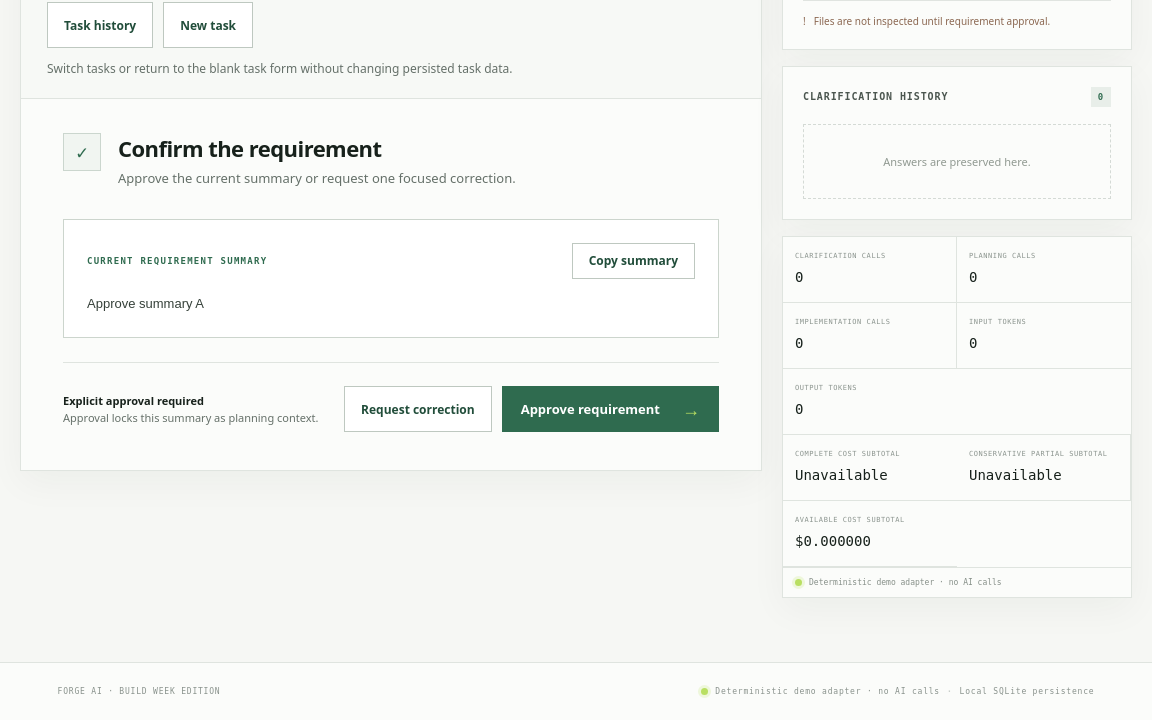
Test: App task navigation hardening › still applies the result for the current selection action
The image size is (1152, 720).
(page scrolled)
What coordinates should you click on to do the following:
click the button "Approve requirement →"
I would click on:
 (610, 409)
Its box is [502,386,719,432].
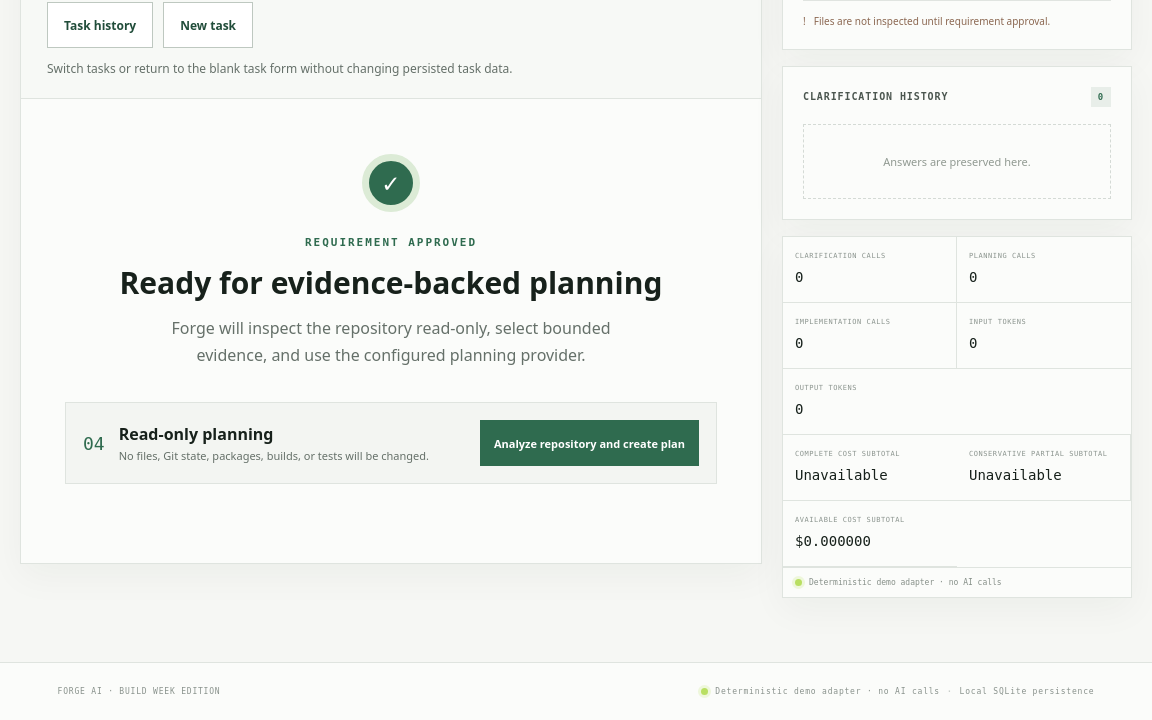
Check: the text "Ready for evidence-backed planning" is shown, box [120,262,662,303]
Check: the text "Analyze repository and create plan" is shown, box [480,420,699,466]
